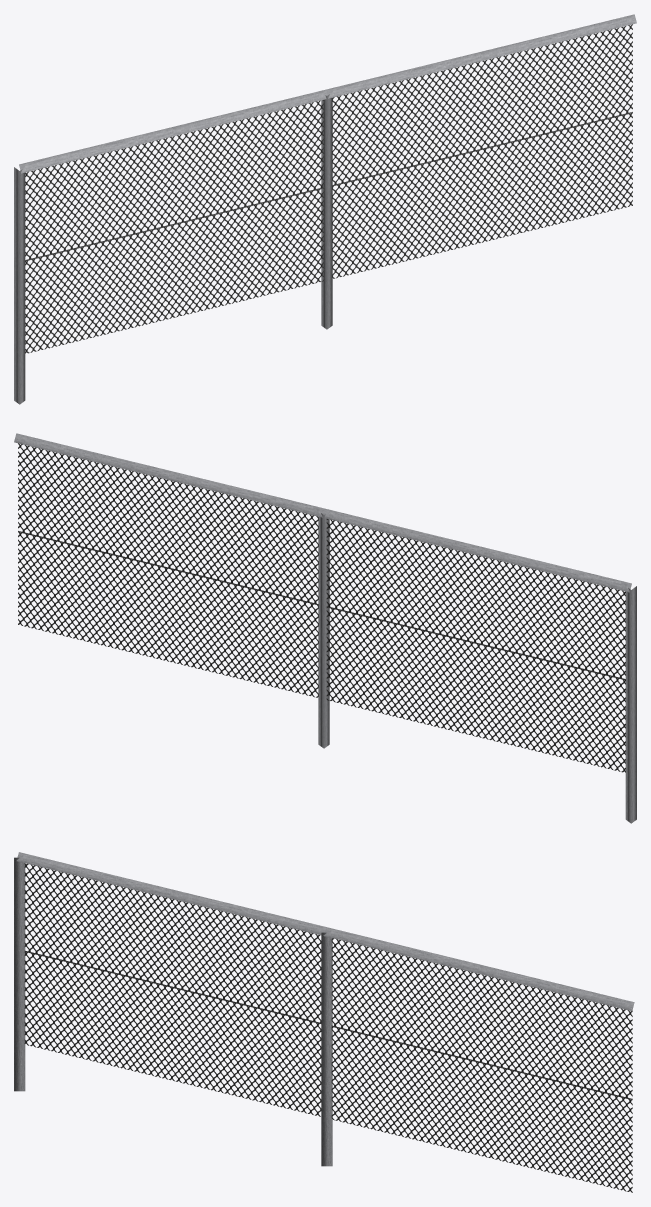
The model's file is fence-tall-chainlink-1rail-2s-cbj_LOD02.gltf.
3 views of the same model, one above another, from view 1: azimuth 30°, elevation 25°; view 2: azimuth 150°, elevation 25°; view 3: azimuth 330°, elevation 25° (orthographic).
Parts seen in each view (by area): view 1: cube02; view 2: cube02; view 3: cube02.
Part boxes in pixels (x1,y1,x2,y2): cube02: (14, 14, 636, 404); cube02: (14, 433, 636, 823); cube02: (14, 852, 634, 1192).
Size of what is drawn, in the model's own units: 6.23 by 2.29 by 0.0998.
